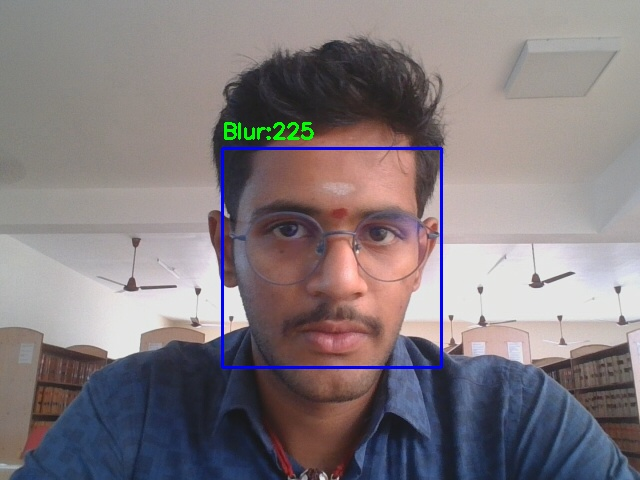real: (222, 148, 441, 367)
